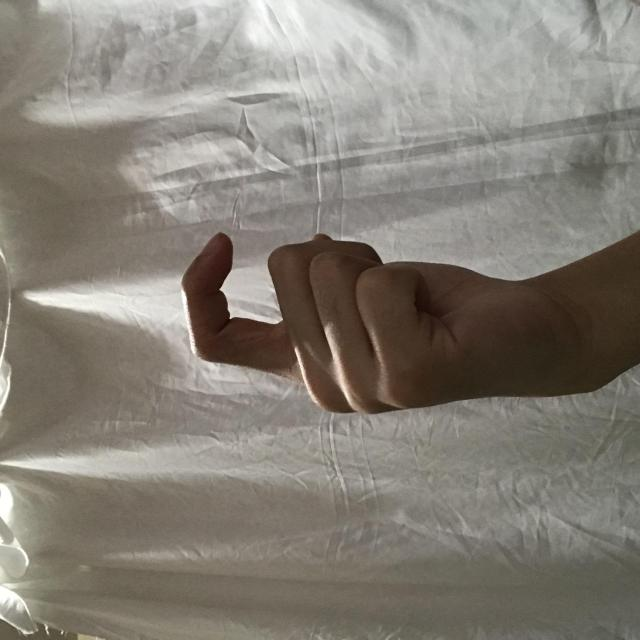X: (227, 180, 412, 582)
